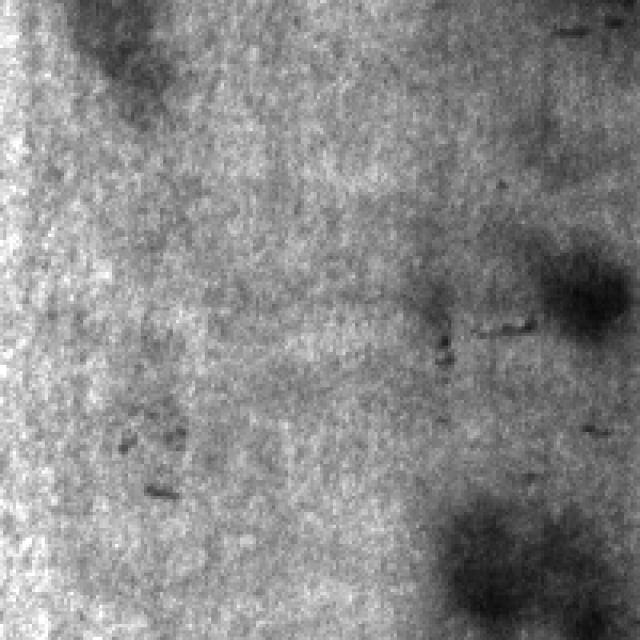patches: (432, 486, 627, 634), (522, 234, 634, 348), (70, 0, 164, 99)
